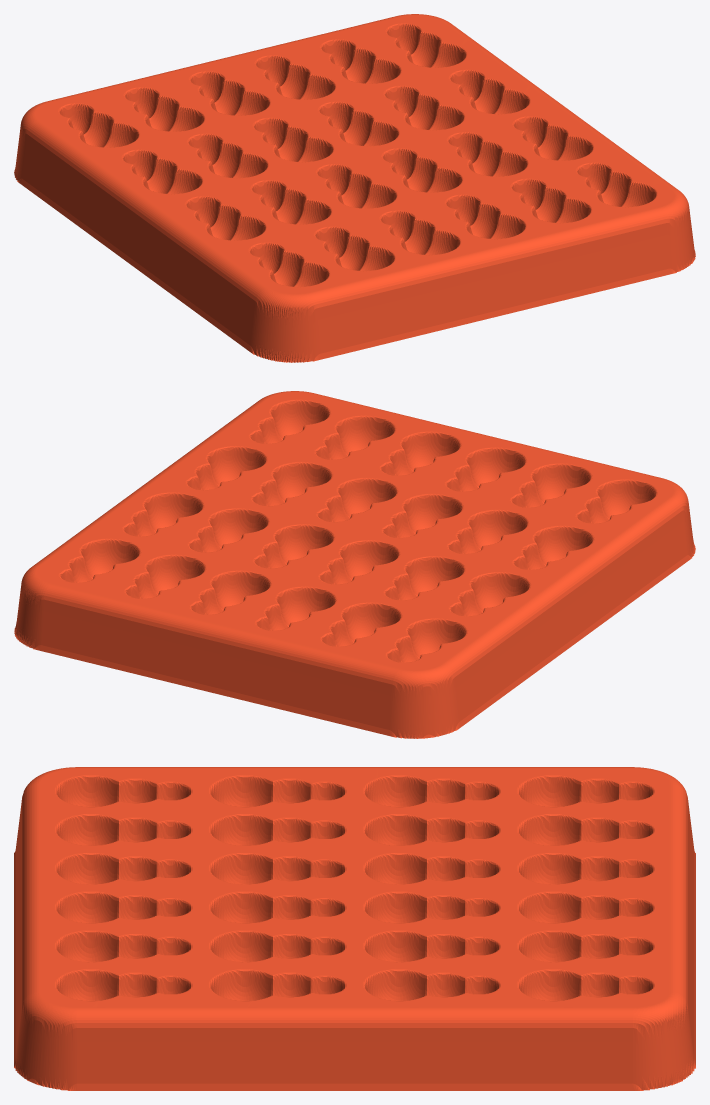
File: mold.glb
The picture shows the model from 3 angles, top to bottom: view 1: azimuth 30°, elevation 25°; view 2: azimuth 150°, elevation 25°; view 3: azimuth 270°, elevation 25°; orthographic projection. The views are drawn at different scales.
Parts seen in each view (by area): view 1: geometry_0; view 2: geometry_0; view 3: geometry_0.
Boxes of the visible parts, left/top/right/bottom form: geometry_0: left=14, top=14, right=695, bottom=362; geometry_0: left=14, top=391, right=695, bottom=738; geometry_0: left=14, top=767, right=695, bottom=1090.
Bounding box in the file's own units: 0.0877 × 0.0114 × 0.097.
